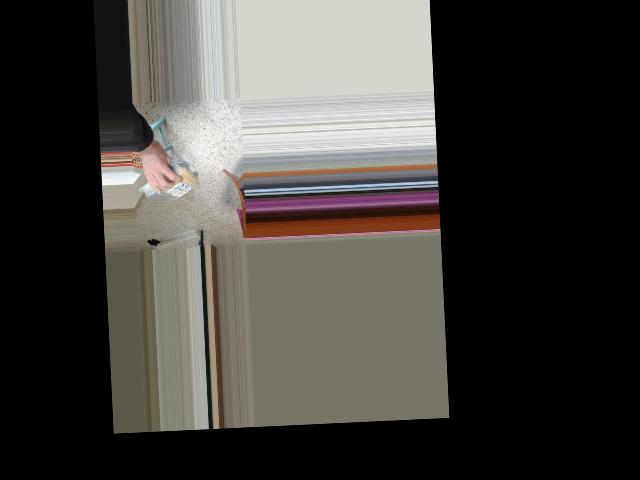cheese: (141, 168, 205, 199)
